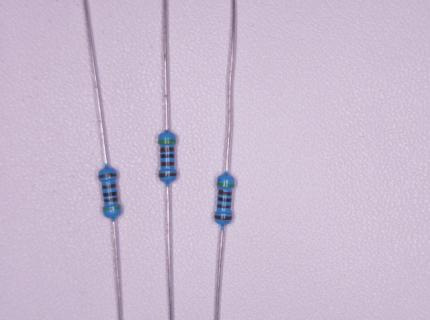Black band: (103, 191, 117, 197), (217, 197, 231, 202), (161, 154, 174, 158)
Brown band: (218, 189, 232, 196), (99, 173, 117, 178), (214, 215, 232, 220), (102, 184, 116, 189), (104, 197, 118, 202), (160, 147, 174, 152), (159, 173, 176, 177), (161, 162, 174, 167), (217, 204, 231, 208)
Green band: (217, 183, 235, 188), (103, 206, 121, 211), (159, 139, 176, 144)
